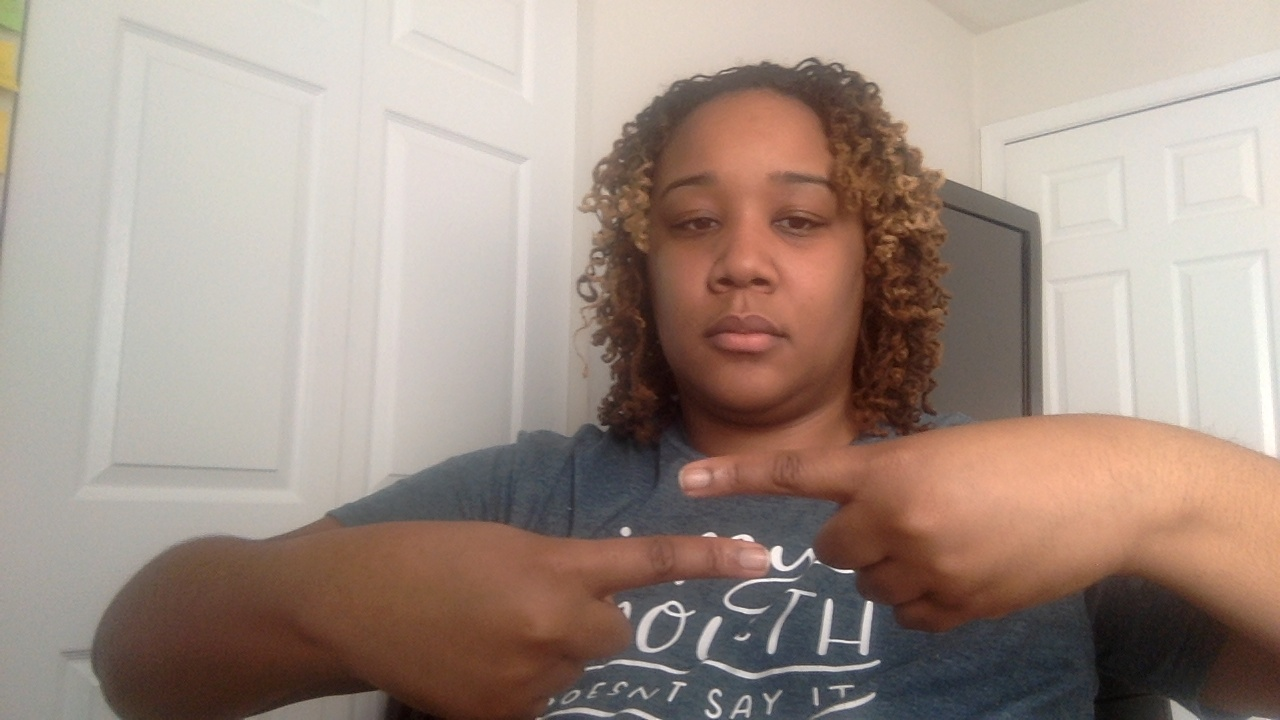go: (82, 408, 1279, 716)
